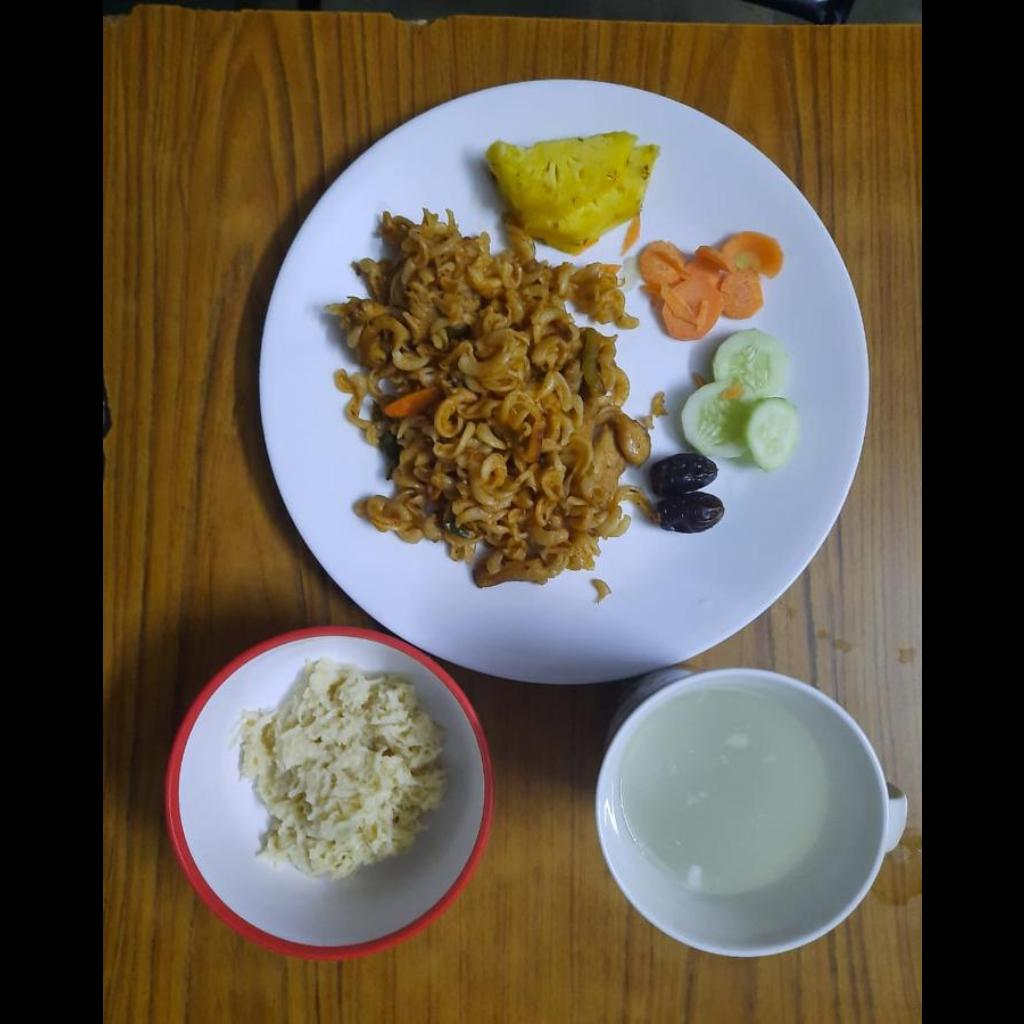carrot: (638, 232, 781, 341)
cucumber: (681, 330, 796, 471)
dates: (647, 453, 723, 534)
juice: (608, 674, 850, 894)
noodles: (332, 214, 649, 586)
payesh: (237, 661, 444, 880)
pineapple: (487, 128, 647, 242)
